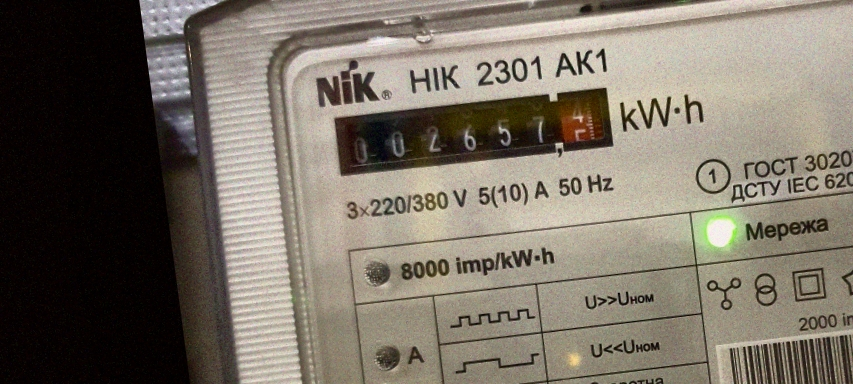0: (350, 134, 371, 164), (388, 127, 407, 159)
2: (423, 123, 443, 154)
4: (568, 97, 586, 124)
5: (494, 116, 514, 148), (572, 126, 589, 142)
6: (460, 121, 478, 152)
7: (530, 112, 549, 145)
screen: (323, 69, 627, 194)
